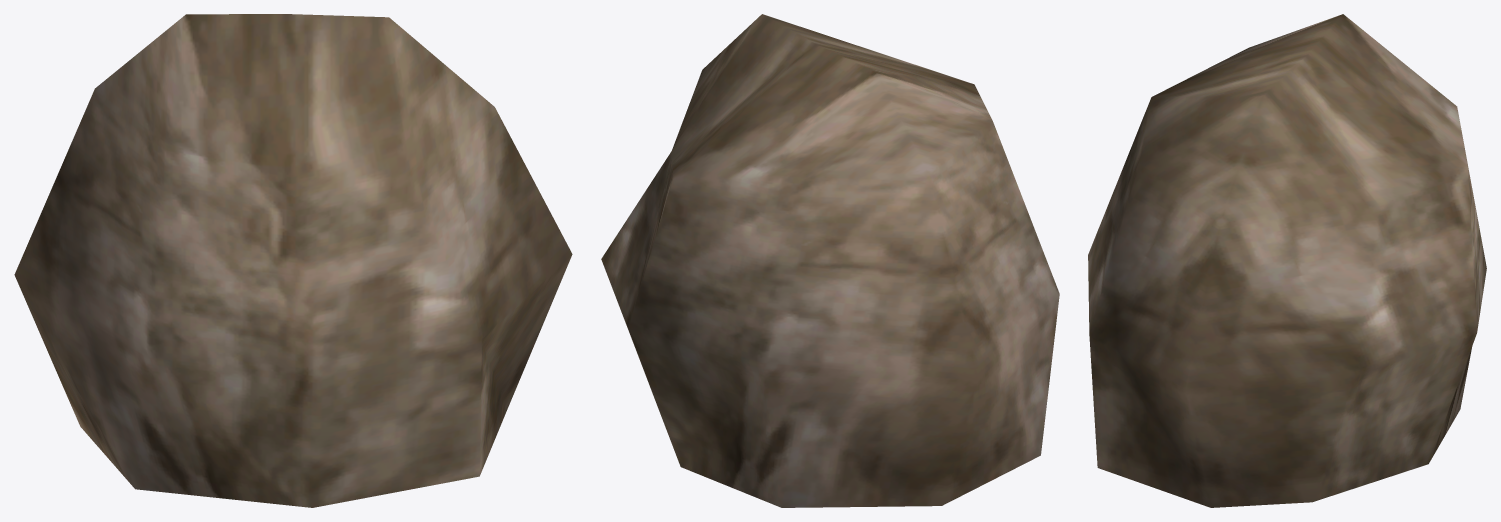
Rendered from OVERHILL_A_01_ROCK75.fbx.
The picture shows the model from 3 angles, left to right: view 1: azimuth 30°, elevation 25°; view 2: azimuth 150°, elevation 25°; view 3: azimuth 270°, elevation 25°; orthographic projection. The views are drawn at different scales.
Visible parts, largest first — view 1: OVERHILL_A_01_ROCK75; view 2: OVERHILL_A_01_ROCK75; view 3: OVERHILL_A_01_ROCK75.
Boxes of the visible parts, box(x1,y1,x2,y2) form: OVERHILL_A_01_ROCK75: box(14, 14, 572, 507); OVERHILL_A_01_ROCK75: box(601, 14, 1059, 507); OVERHILL_A_01_ROCK75: box(1088, 14, 1486, 507).
Size of the model in its own units: 11126 by 9813 by 9339.
Materials: 1 (1 with a texture image).
